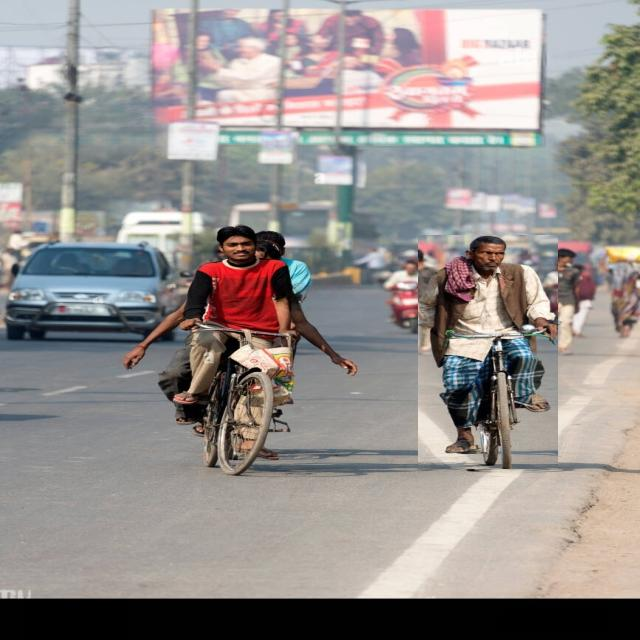bicycle: (419, 235, 558, 469), (172, 225, 293, 475)
car: (4, 242, 178, 339)
